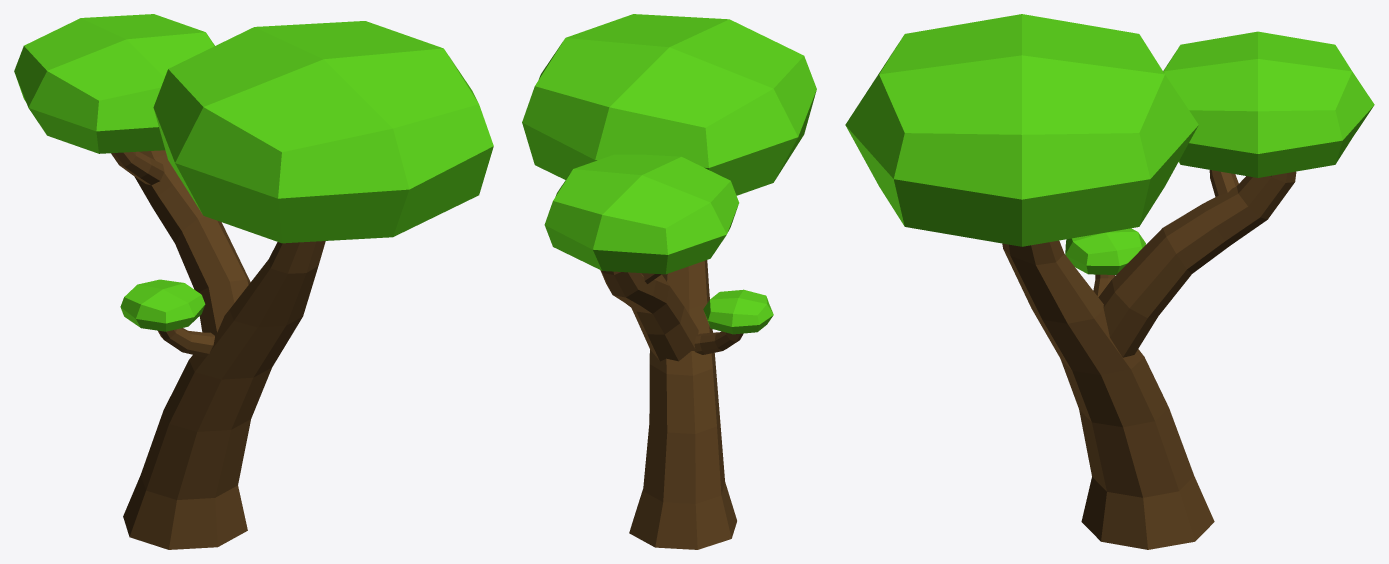
Rendered from boom 1.fbx.
3 renders of one model, left to right at view 1: azimuth 30°, elevation 25°; view 2: azimuth 150°, elevation 25°; view 3: azimuth 270°, elevation 25°, orthographic. The views are drawn at different scales.
Parts seen in each view (by area): view 1: Boom 1; view 2: Boom 1; view 3: Boom 1.
Part boxes in pixels (x1,y1,x2,y2): Boom 1: (14,14,493,549); Boom 1: (522,14,816,549); Boom 1: (845,14,1374,549).
Bounding box in the file's own units: 3.52 × 5 × 4.75.
